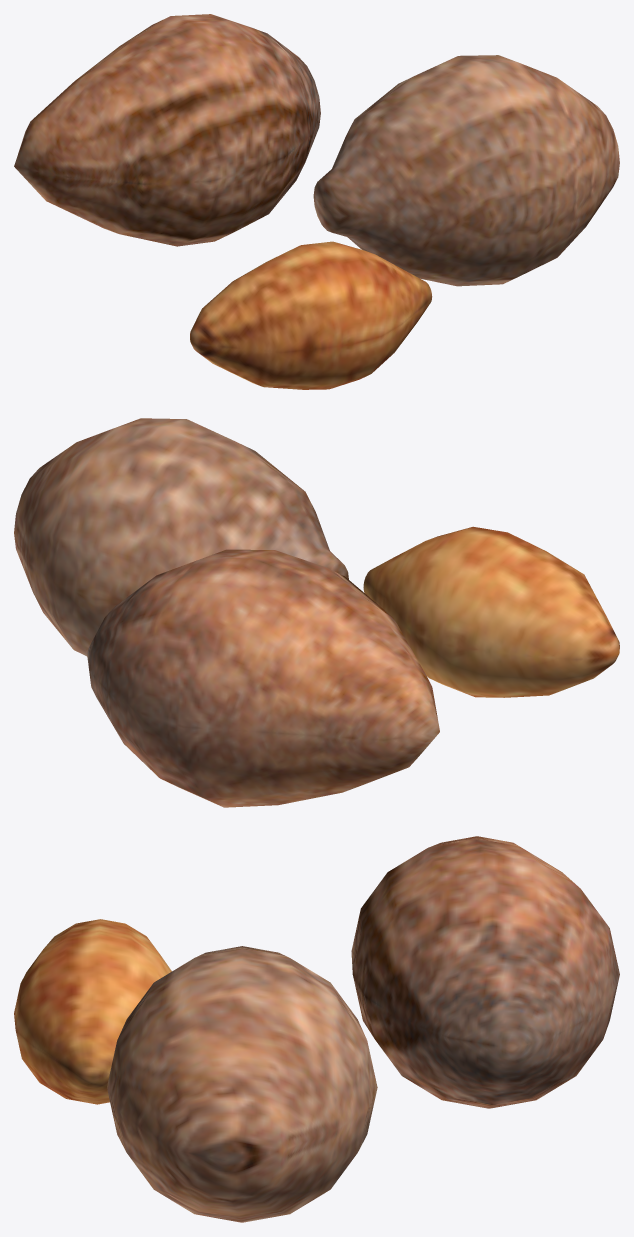
The model's file is yizhi.FBX.
3 renders of one model, top to bottom at view 1: azimuth 30°, elevation 25°; view 2: azimuth 150°, elevation 25°; view 3: azimuth 270°, elevation 25°, orthographic. The views are drawn at different scales.
Visible parts, largest first — view 1: Sphere002, Sphere001, Sphere003; view 2: Sphere001, Sphere002, Sphere003; view 3: Sphere002, Sphere001, Sphere003.
Part boxes in pixels (box(x1,y1,x2,y2)): Sphere002: box(313, 55, 619, 286); Sphere001: box(14, 14, 320, 246); Sphere003: box(190, 241, 432, 389); Sphere001: box(86, 549, 439, 807); Sphere002: box(14, 418, 348, 656); Sphere003: box(363, 526, 619, 697); Sphere002: box(107, 946, 377, 1222); Sphere001: box(351, 836, 619, 1108); Sphere003: box(14, 919, 171, 1104).
Bounding box in the file's own units: 473 × 212 × 443.
1 material, 1 textured.
